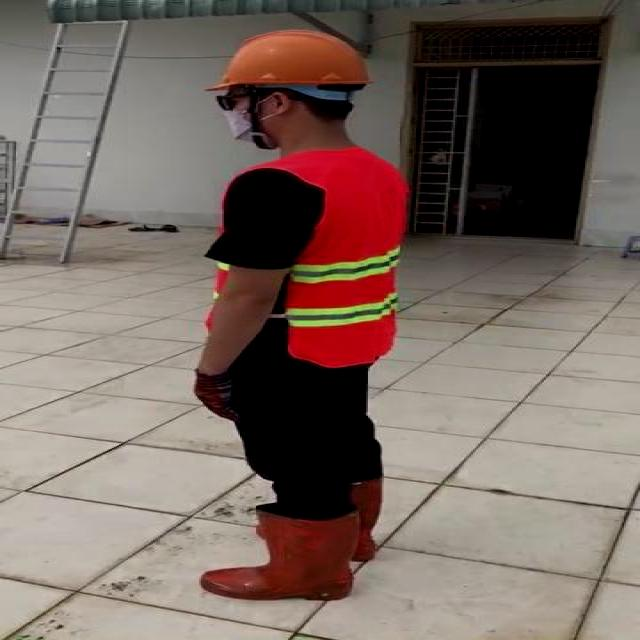boots: (201, 507, 357, 600), (304, 475, 384, 564)
face_mask: (207, 87, 285, 143)
hand_glove: (196, 370, 237, 424)
head_helmet: (205, 26, 376, 95)
person: (148, 15, 422, 607)
vest: (204, 149, 410, 367)
